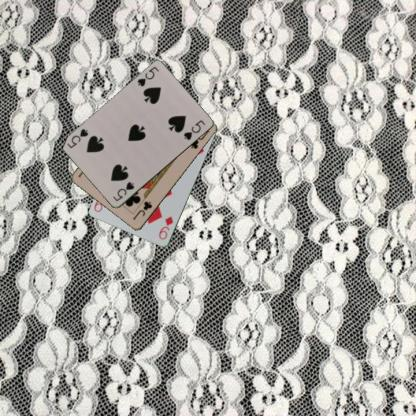5s: (110, 179, 136, 203), (135, 64, 160, 88)
9d: (156, 214, 174, 241)
Jc: (130, 199, 153, 221)
